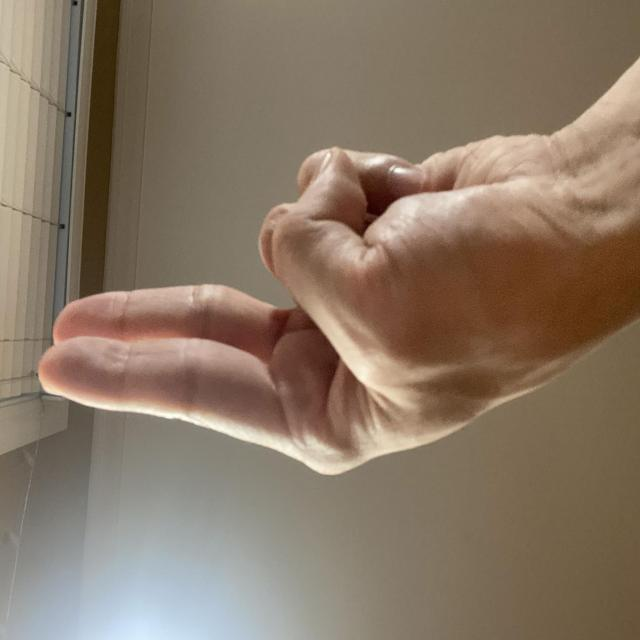U: (108, 41, 396, 640)
